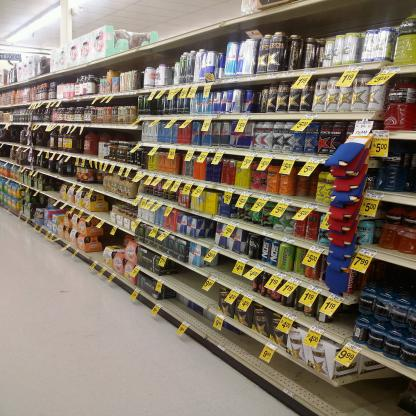Void: (368, 369, 409, 415), (376, 261, 416, 299), (176, 264, 206, 297), (100, 225, 125, 246), (216, 254, 234, 275), (46, 181, 56, 190)
